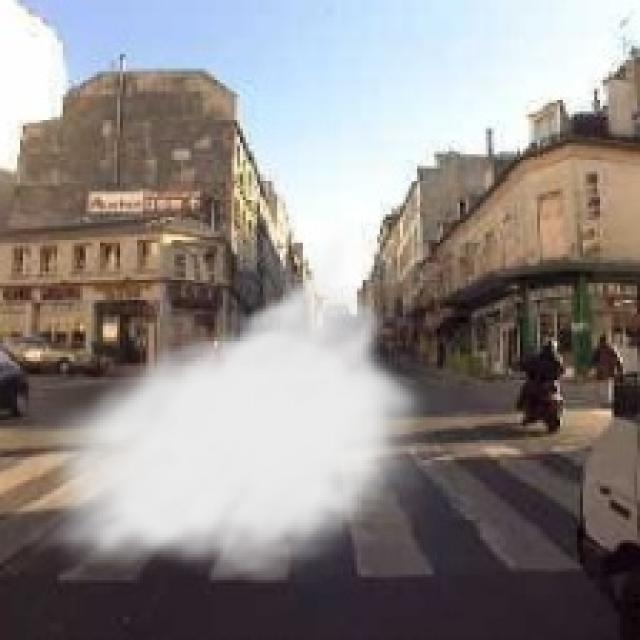smoke: (26, 220, 434, 586)
